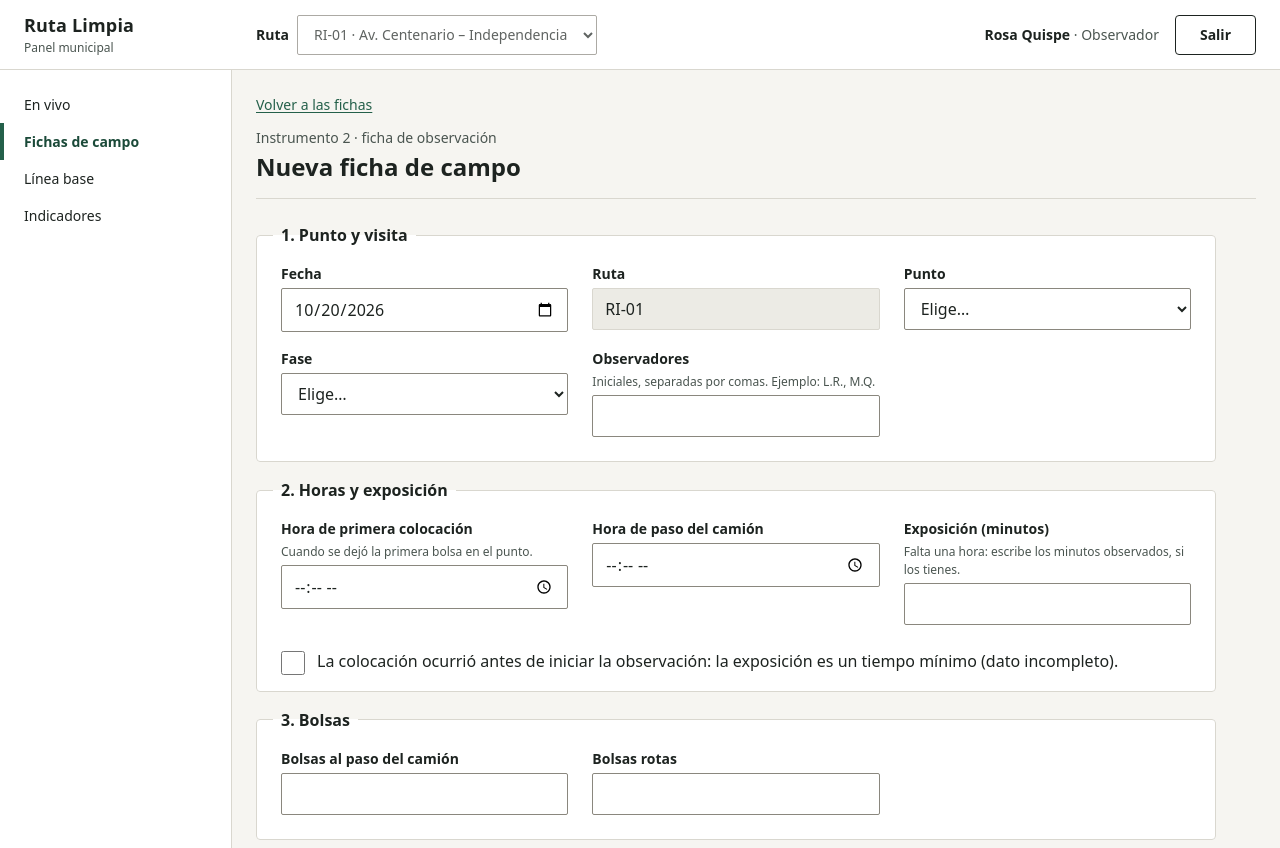
it: FieldSheetEditorPage › shows the music section only at points that observe it
Select "P09 · Av. Centenario · punto 9" in the dropdown labelled "Punto" at {"x": 1047, "y": 309}, box left=904, top=288, right=1191, bottom=330
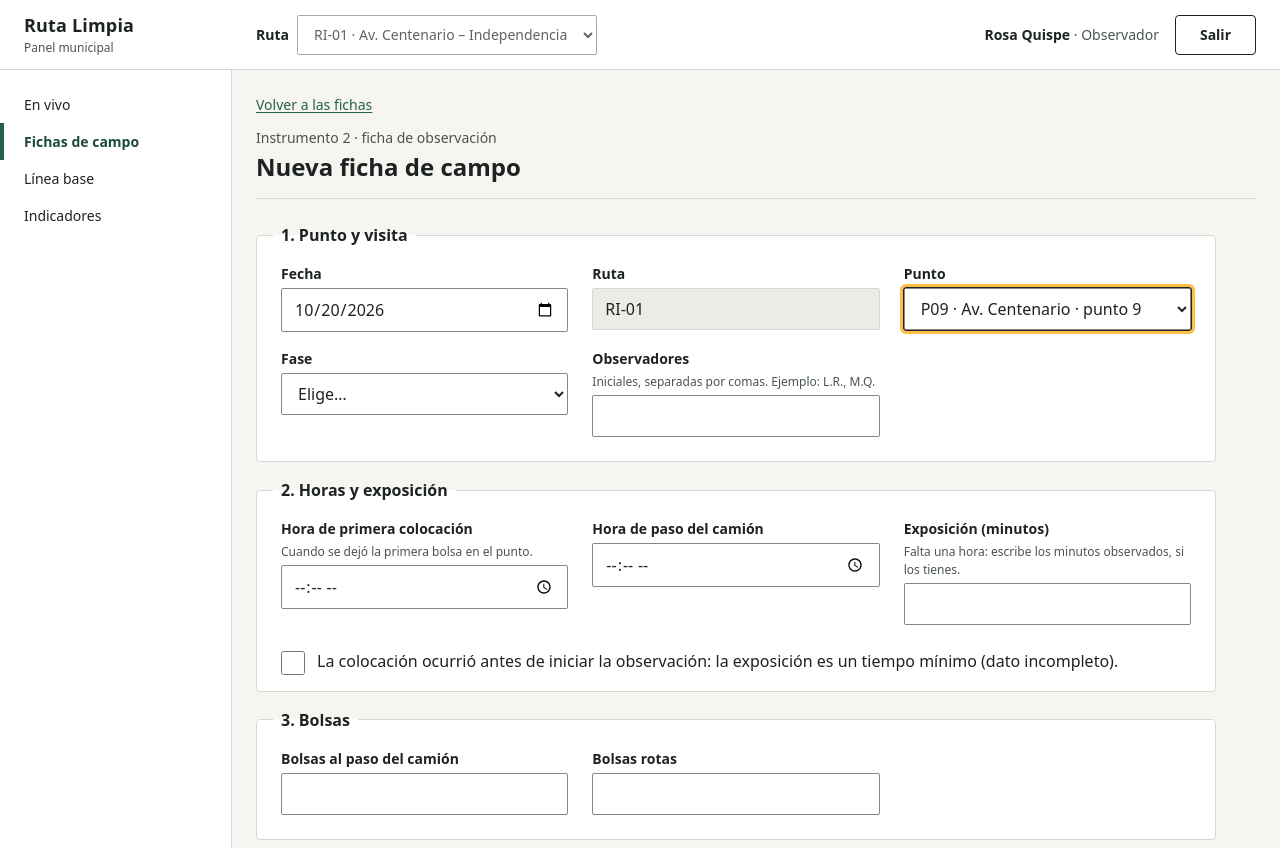
Expected: the text "7. Aviso con música" is not shown
Select "P08 · Av. Centenario · punto 8" in the dropdown labelled "Punto" at {"x": 1047, "y": 309}, box left=904, top=288, right=1191, bottom=330
(page scrolled)
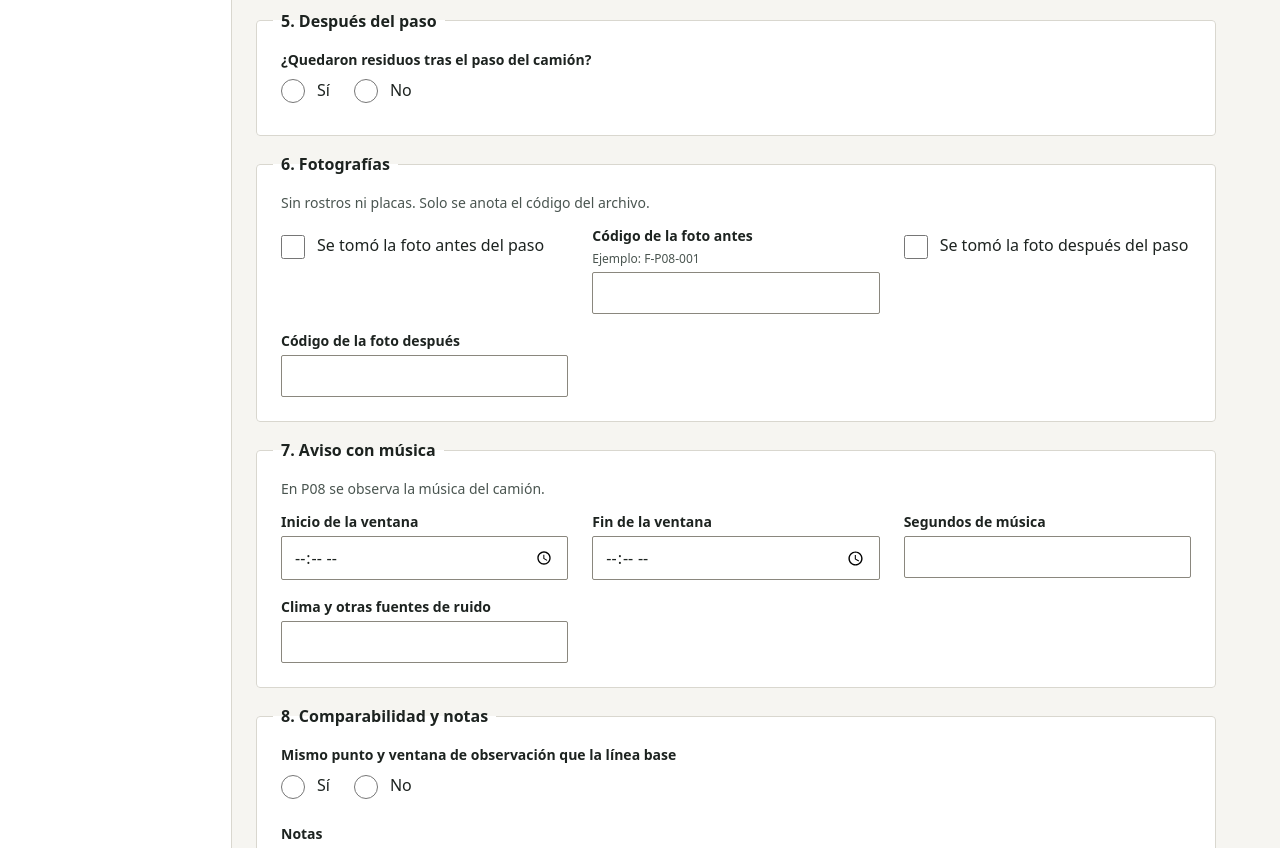
Expected: the text "7. Aviso con música" is shown, left=273, top=438, right=444, bottom=462
